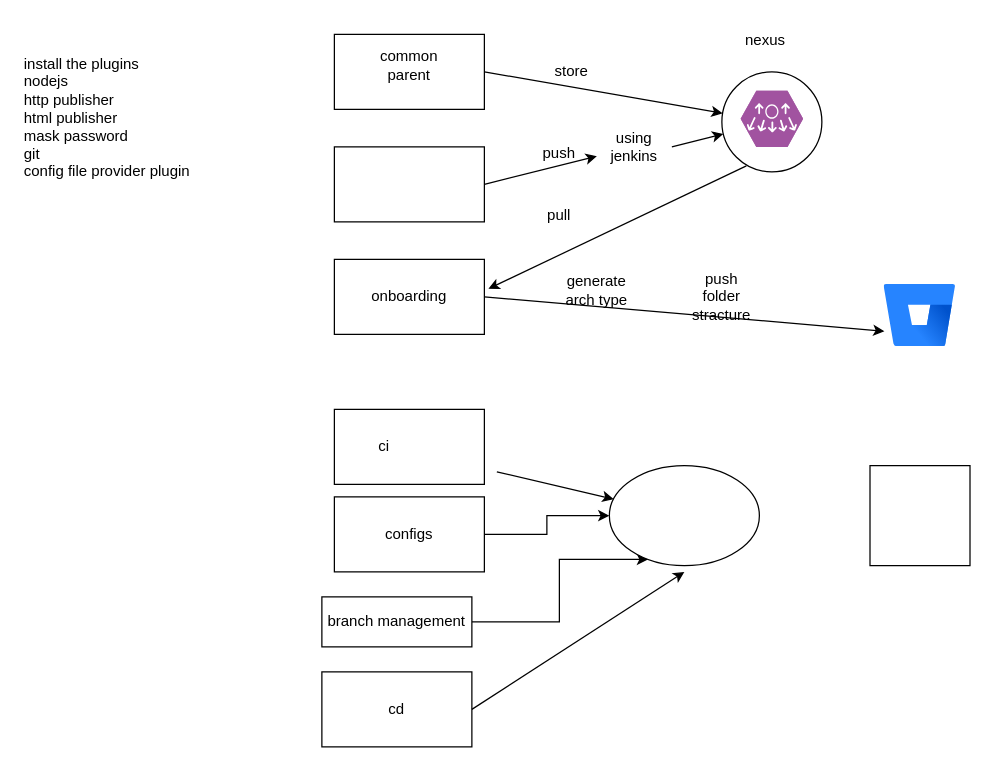
Some shapes in this 991 by 769 pixel diagram are drawn without their labels. The shapes that lost their labels are listed below. From the top down, each one's centre as x and y in pixels, then its label:
At (x=408, y=184): "archtype".
At (x=683, y=515): "postman".
At (x=919, y=515): "apigee platform".
